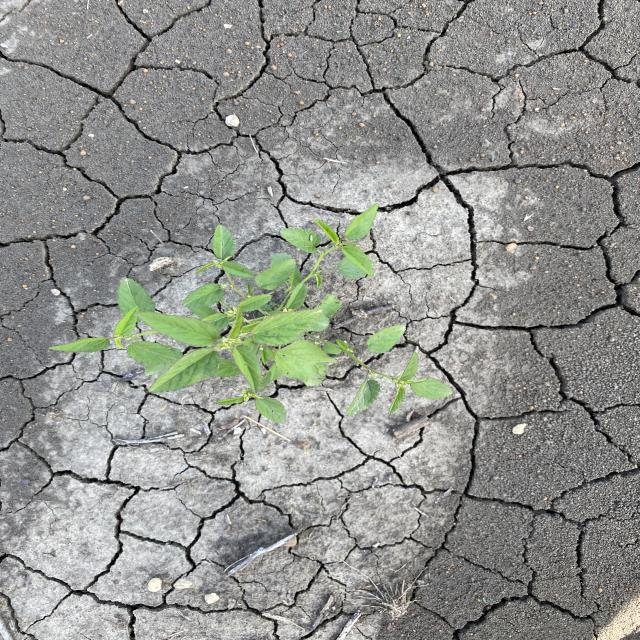PricklySida: (46, 201, 457, 426)
